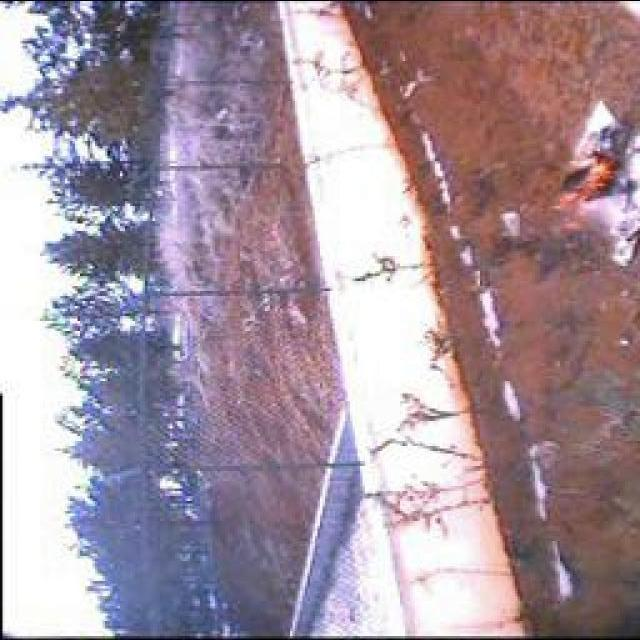Fire: (546, 134, 635, 237)
